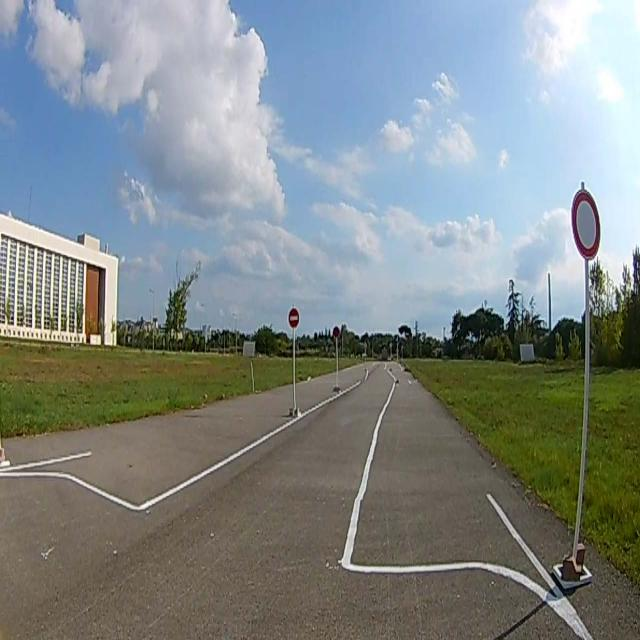girisyok: (288, 307, 300, 329)
